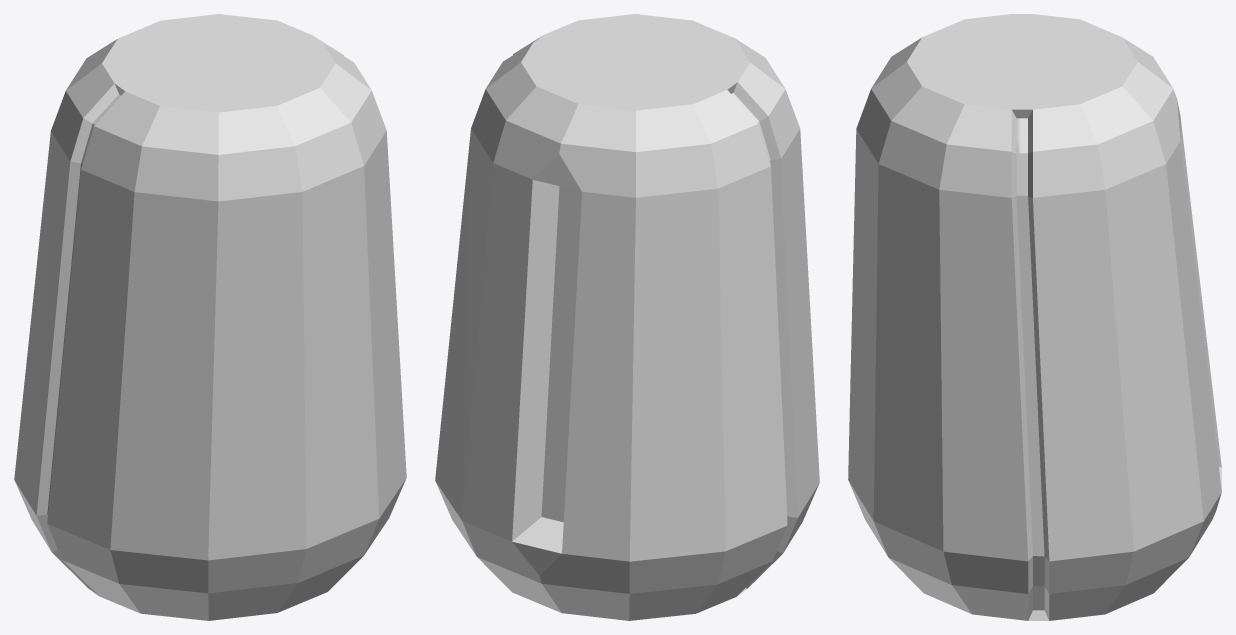
The model's file is Neck.obj.
3 renders of one model, left to right at view 1: azimuth 30°, elevation 25°; view 2: azimuth 150°, elevation 25°; view 3: azimuth 270°, elevation 25°, orthographic. The views are drawn at different scales.
Visible parts, largest first — view 1: Neck_Mesh.018; view 2: Neck_Mesh.018; view 3: Neck_Mesh.018.
Boxes of the visible parts, box(x1,y1,x2,y2) form: Neck_Mesh.018: box(14, 14, 406, 620); Neck_Mesh.018: box(435, 14, 819, 620); Neck_Mesh.018: box(848, 14, 1221, 620).
Size of the model in its own units: 0.0762 by 0.1095 by 0.0738.
Materials: 1 (1 with a texture image).
